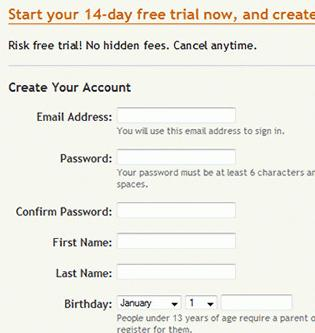field: (112, 147, 236, 166), (112, 262, 238, 280), (115, 107, 238, 125), (113, 201, 237, 218), (112, 232, 236, 249), (219, 294, 294, 311), (117, 294, 182, 311), (184, 295, 218, 311)
field_with_label: (35, 104, 241, 126), (15, 199, 238, 219), (61, 145, 238, 167), (54, 230, 238, 251), (57, 260, 240, 281), (64, 293, 182, 312)
